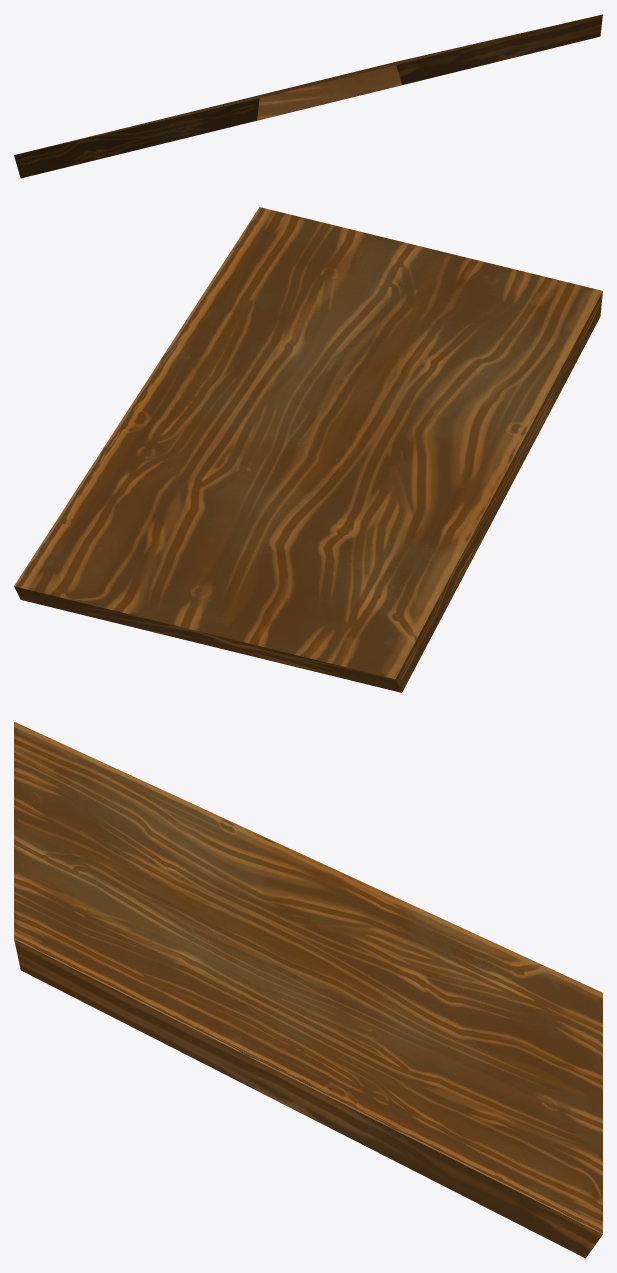
The picture shows the model from 3 angles, top to bottom: view 1: azimuth 30°, elevation 25°; view 2: azimuth 150°, elevation 25°; view 3: azimuth 270°, elevation 25°; orthographic projection. The views are drawn at different scales.
Visible parts, largest first — view 1: Cube.2095; view 2: Cube.2095; view 3: Cube.2095.
Part boxes in pixels (box(x1,y1,x2,y2)): Cube.2095: box(14, 14, 602, 178); Cube.2095: box(14, 207, 602, 692); Cube.2095: box(14, 721, 602, 1258).
Size of the model in its own units: 658 by 390 by 677.
1 material, 1 textured.
